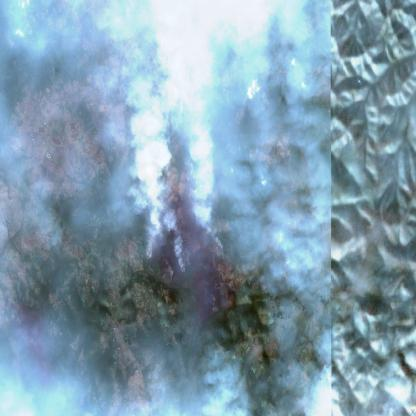fire: (140, 229, 160, 264), (210, 227, 231, 256), (175, 242, 188, 278)
